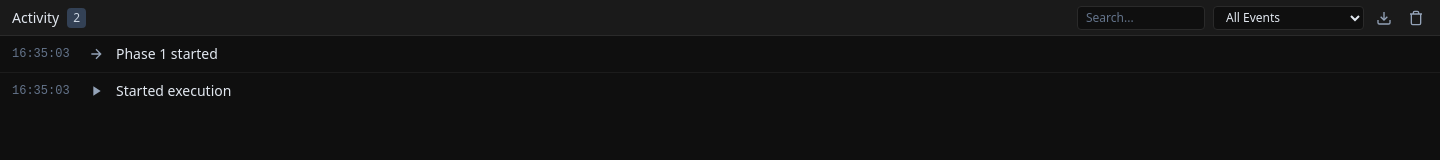
Scenario: ActivityLog › should filter events when searching
In the field with placeholder "Search...": x=1141, y=18 [1077,6,1205,30], type "Phase"
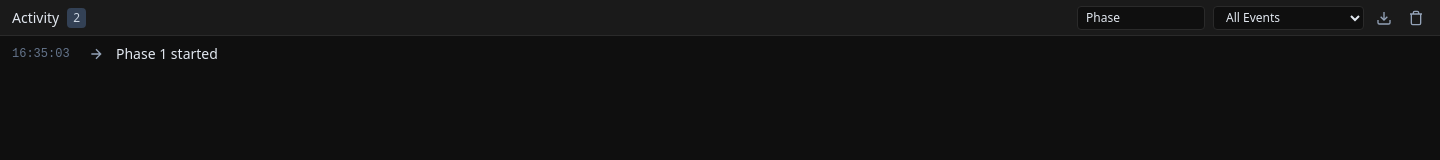
Expected: the text "Phase 1 started" is shown, [116,44,218,63]
Now the text "Started execution" is gone
